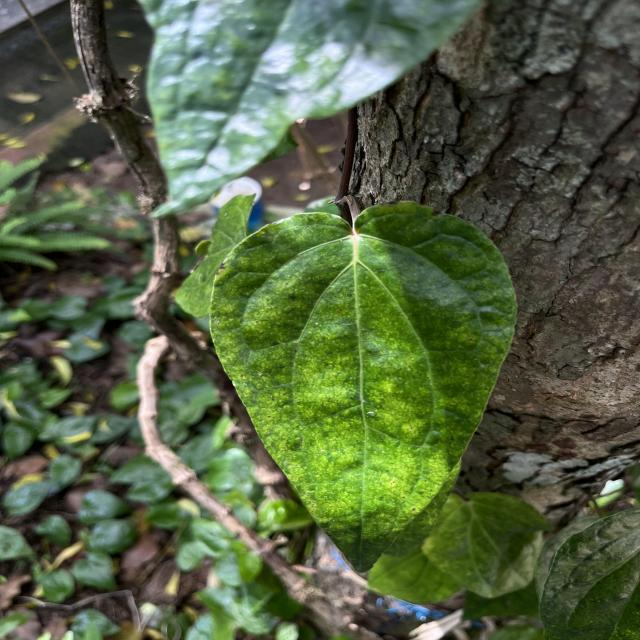Piper betle: (206, 198, 521, 577)
